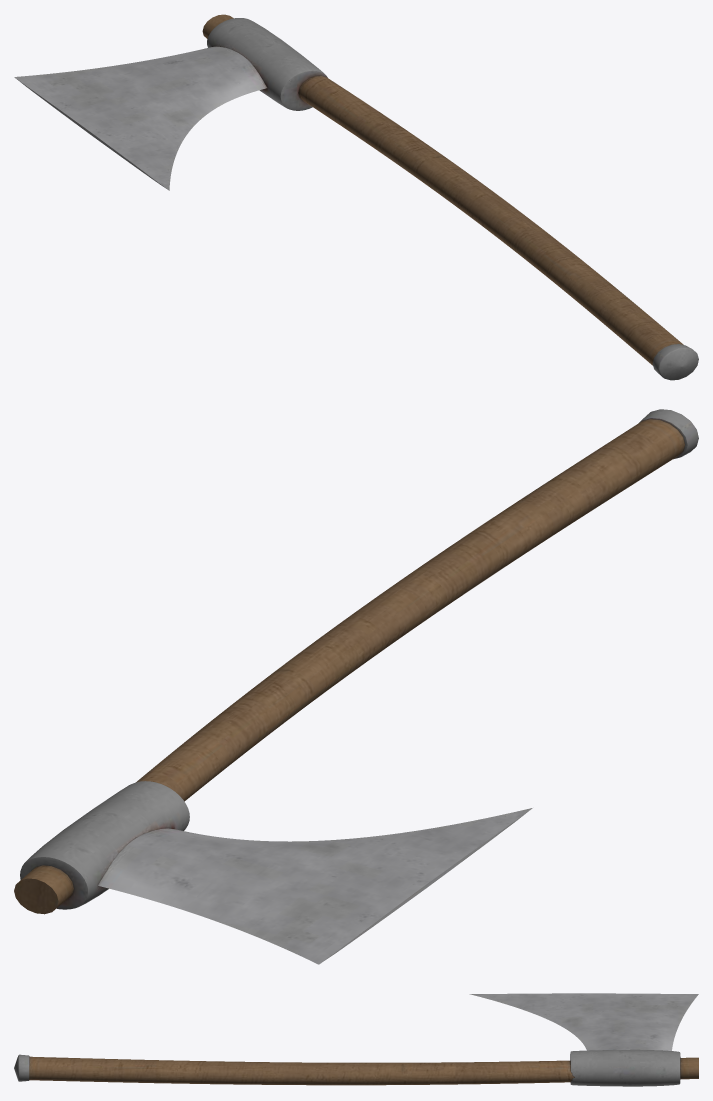
File: axe.glb
The picture shows the model from 3 angles, top to bottom: view 1: azimuth 30°, elevation 25°; view 2: azimuth 150°, elevation 25°; view 3: azimuth 270°, elevation 25°; orthographic projection. The views are drawn at different scales.
Visible parts, largest first — view 1: axe; view 2: axe; view 3: axe.
Part boxes in pixels (x1,y1,x2,y2): axe: [14, 14, 698, 380]; axe: [14, 409, 698, 964]; axe: [14, 993, 698, 1086].
Size of the model in its own units: 0.221 by 0.0378 by 0.745.
Materials: 1 (1 with a texture image).
